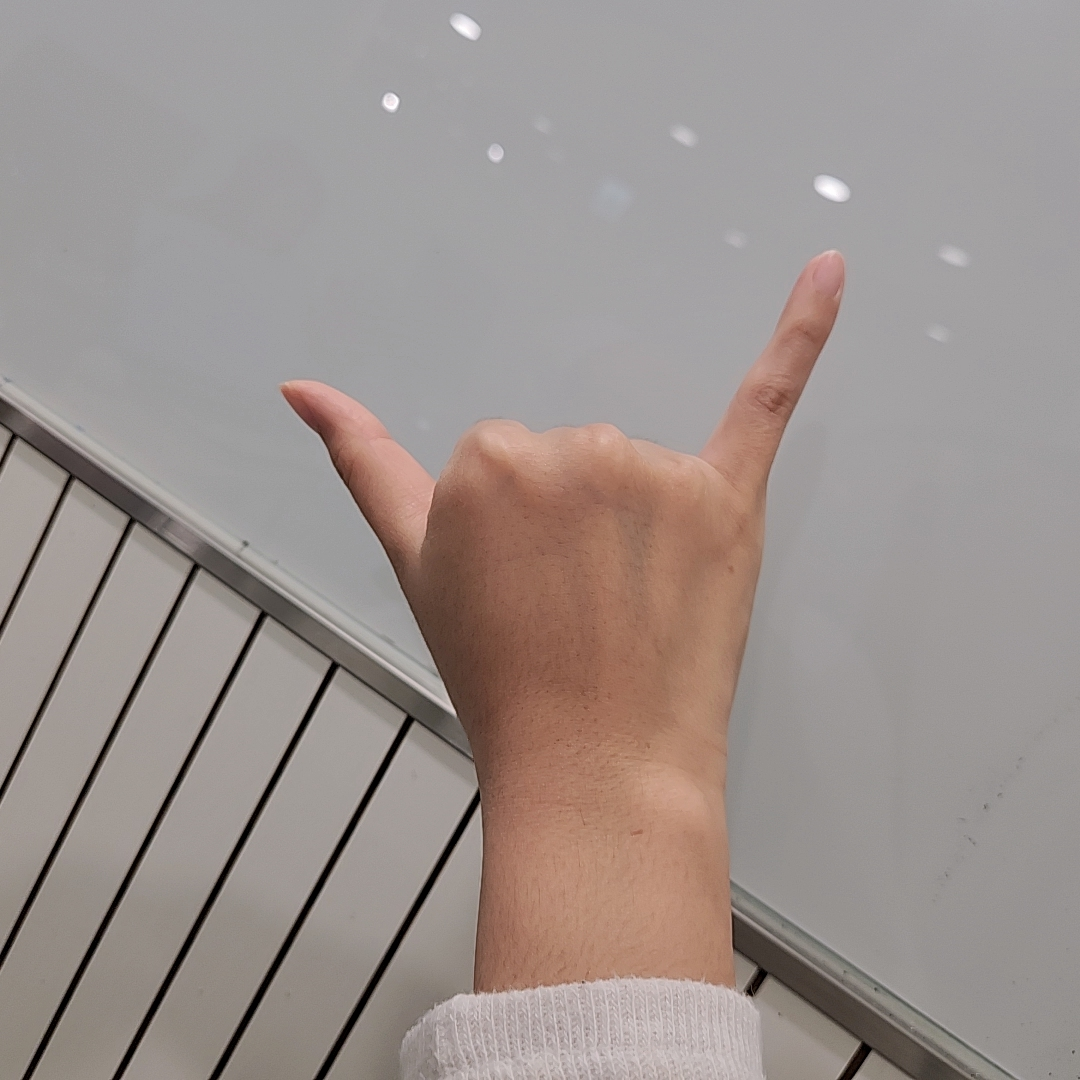call: (275, 246, 849, 712)
